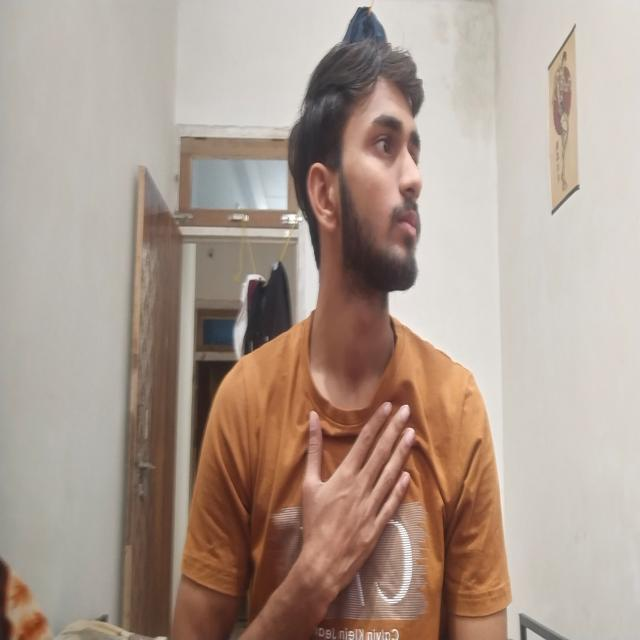Please: (286, 370, 442, 626)
